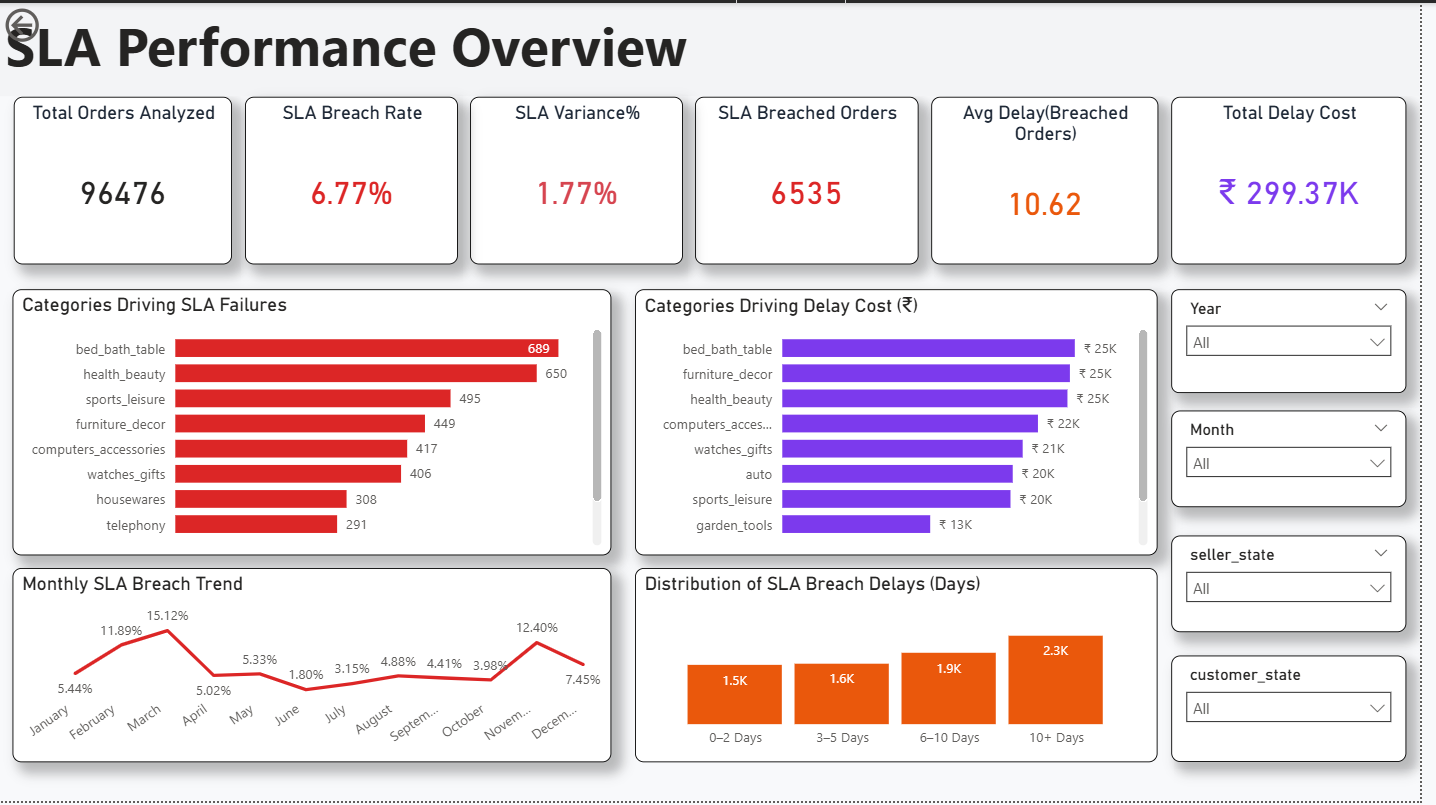

The dashboard page shown, as its layout file describes it:
{"tool":"powerbi","page":{"name":"SLA Performance Overview","canvas":[1280,720],"ordinal":0},"visuals":[{"type":"card","title":"Total Orders Analyzed","fields":{"Values":["public sla_final.Total Orders"]},"box":[12.1,84.8,196.9,151.5],"z":0},{"type":"card","title":"SLA Breached Orders","fields":{"Values":["public sla_final.SLA Breached Orders"]},"box":[627.1,84.8,201.5,151.5],"z":1000},{"type":"clusteredBarChart","title":"Categories Driving SLA Failures","fields":{"Category":["public sla_final.product_category_name_english"],"Y":["public sla_final.SLA Breached Orders"]},"box":[11.5,258,540.4,240.2],"z":2000},{"type":"clusteredBarChart","title":"Categories Driving Delay Cost (₹)","fields":{"Category":["public sla_final.product_category_name_english"],"Y":["public sla_final.Total Delay Cost"]},"box":[572.3,258,471.4,240.2],"z":3000},{"type":"card","title":"Avg Delay(Breached Orders)","fields":{"Values":["public sla_final.Avg Delay (Breached Orders)"]},"box":[839.2,84.8,204.5,151.5],"z":4000},{"type":"card","title":"Total Delay Cost","fields":{"Values":["public sla_final.Total Delay Cost"]},"box":[1055.8,84.8,212.1,151.5],"z":5000},{"type":"slicer","fields":{"Values":["public sla_final.order_purchase_timestamp.Variation.Date Hierarchy.Year"]},"box":[1056.4,258,212.1,93.3],"z":6000},{"type":"slicer","fields":{"Values":["public sla_final.order_purchase_timestamp.Variation.Date Hierarchy.Month"]},"box":[1056.4,367.9,212.1,86.9],"z":7000},{"type":"slicer","fields":{"Values":["public sla_final.seller_state"]},"box":[1056.4,480.3,212.1,86.9],"z":8000},{"type":"slicer","fields":{"Values":["public sla_final.customer_state"]},"box":[1056.4,588.9,212.1,95.8],"z":9000},{"type":"textbox","box":[0,0,1280.3,83.7],"z":10000},{"type":"card","title":" SLA Variance%","fields":{"Values":["public sla_final.SLA Variance %"]},"box":[425.6,83.7,191.9,151.2],"z":11000},{"type":"card","title":"SLA Breach Rate","fields":{"Values":["public sla_final.SLA Breach Rate"]},"box":[221.2,84.8,192.4,151.5],"z":12000},{"type":"lineChart","title":"Monthly SLA Breach Trend","fields":{"Y":["public sla_final.SLA Breach Rate"],"Category":["public sla_final.order_purchase_timestamp.Variation.Date Hierarchy.Month"]},"box":[11.5,509.7,540.4,175],"z":13000},{"type":"clusteredColumnChart","title":"Distribution of SLA Breach Delays (Days)","fields":{"Y":["CountNonNull(public sla_final.order_id)"],"Category":["public sla_final.Delay Bucket"]},"box":[572.3,509.7,471.4,175],"z":14000},{"type":"actionButton","box":[0,0,100,40],"z":15000}]}

Visuals, with their boxes in screenshot pixels (x1, y1, x2, y2), scaled from the page's 1280x720 canvas onto the 1436x805 screenshot:
"Total Orders Analyzed" card: x1=14 y1=95 x2=234 y2=264
"SLA Breached Orders" card: x1=704 y1=95 x2=930 y2=264
"Categories Driving SLA Failures" clusteredBarChart: x1=13 y1=288 x2=619 y2=557
"Categories Driving Delay Cost (₹)" clusteredBarChart: x1=642 y1=288 x2=1171 y2=557
"Avg Delay(Breached Orders)" card: x1=941 y1=95 x2=1171 y2=264
"Total Delay Cost" card: x1=1184 y1=95 x2=1422 y2=264
slicer - public sla_final.order_purchase_timestamp.Variation.Date Hierarchy.Year: x1=1185 y1=288 x2=1423 y2=393
slicer - public sla_final.order_purchase_timestamp.Variation.Date Hierarchy.Month: x1=1185 y1=411 x2=1423 y2=508
slicer - public sla_final.seller_state: x1=1185 y1=537 x2=1423 y2=634
slicer - public sla_final.customer_state: x1=1185 y1=658 x2=1423 y2=766
textbox: x1=0 y1=0 x2=1435 y2=94
" SLA Variance%" card: x1=477 y1=94 x2=693 y2=263
"SLA Breach Rate" card: x1=248 y1=95 x2=464 y2=264
"Monthly SLA Breach Trend" lineChart: x1=13 y1=570 x2=619 y2=766
"Distribution of SLA Breach Delays (Days)" clusteredColumnChart: x1=642 y1=570 x2=1171 y2=766
actionButton: x1=0 y1=0 x2=112 y2=45
